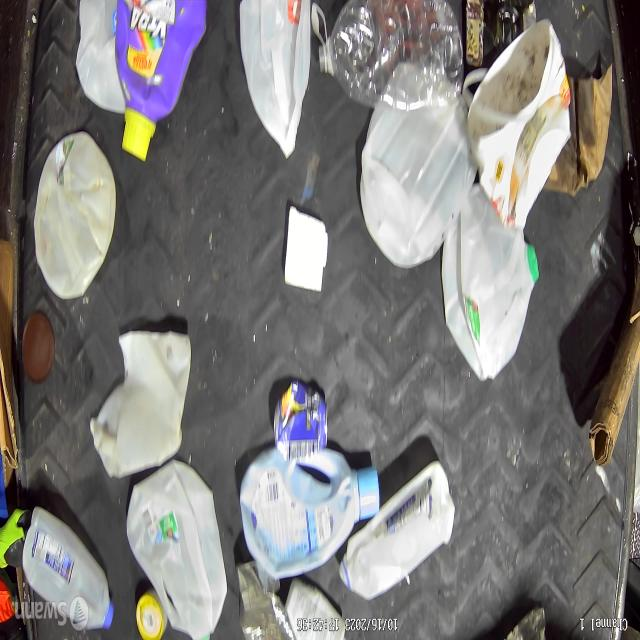can: (268, 374, 331, 461)
milk_jug: (359, 94, 476, 268), (442, 187, 539, 382), (127, 463, 225, 640), (336, 467, 456, 597), (93, 328, 191, 476), (33, 130, 115, 298), (18, 510, 113, 637), (240, 0, 312, 160), (75, 0, 126, 118)
non_white_jug: (240, 444, 378, 576), (116, 0, 206, 160)
plastic_bottle: (318, 0, 463, 110)
